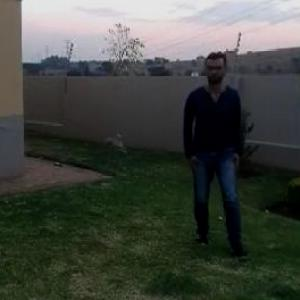follow: (175, 46, 230, 238)
